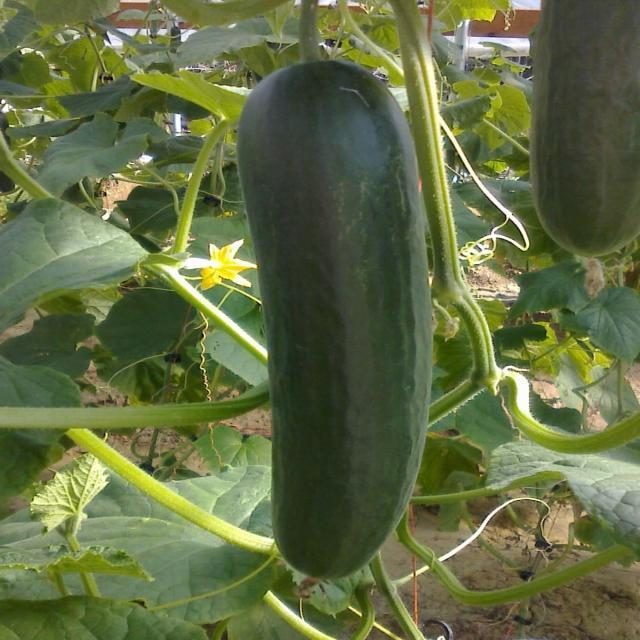cucumber: (236, 55, 440, 581), (524, 1, 640, 255)
